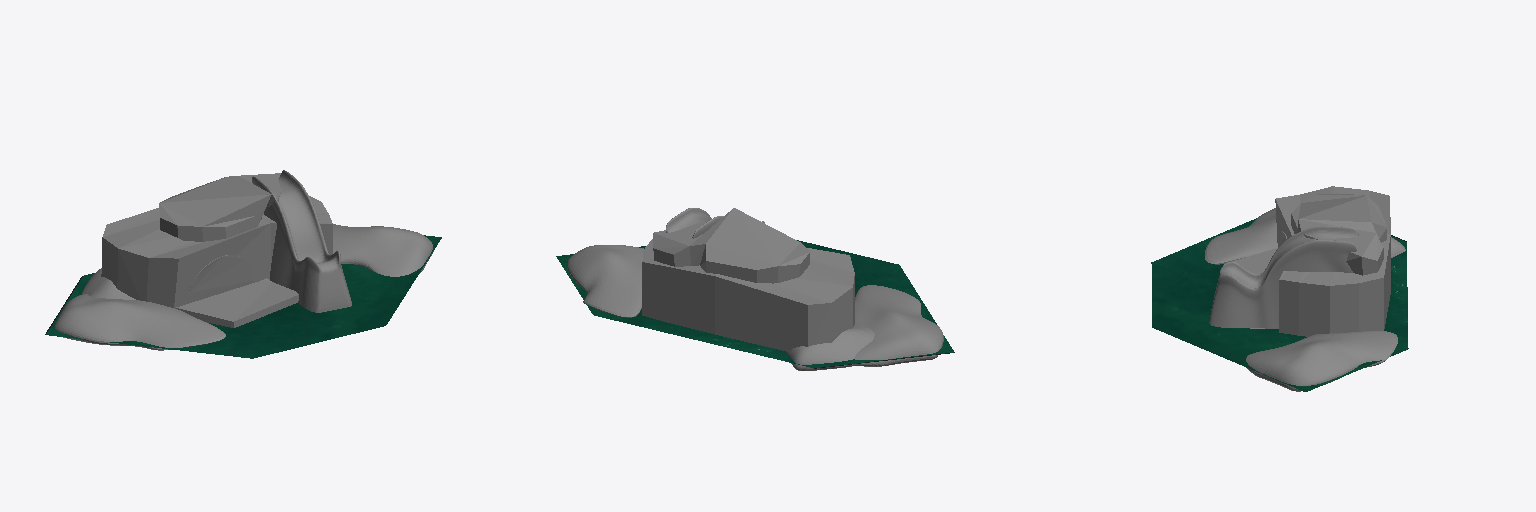
The picture shows the model from 3 angles: view 1: azimuth 30°, elevation 25°; view 2: azimuth 150°, elevation 25°; view 3: azimuth 270°, elevation 25°; orthographic projection.
Parts seen in each view (by area): view 1: cueva, piso, tobogan, monte, roca, monte3, piso_001, monte2; view 2: cueva, roca, monte, piso, monte3, monte2, tobogan; view 3: piso, cueva, tobogan, monte3, roca, monte, piso_001.
Boxes of the visible parts, <box> form: cueva: <box>101,196,332,308</box>; piso: <box>45,235,441,358</box>; tobogan: <box>252,170,351,312</box>; monte: <box>54,294,225,350</box>; roca: <box>159,173,281,241</box>; monte3: <box>333,224,433,276</box>; piso_001: <box>176,278,298,327</box>; monte2: <box>82,268,135,299</box>; cueva: <box>642,239,854,351</box>; roca: <box>653,208,809,283</box>; monte: <box>853,285,943,366</box>; piso: <box>556,240,954,368</box>; monte3: <box>567,245,643,317</box>; monte2: <box>786,324,874,370</box>; tobogan: <box>666,208,764,238</box>; piso: <box>1151,218,1408,391</box>; cueva: <box>1275,186,1390,336</box>; tobogan: <box>1209,226,1358,328</box>; monte3: <box>1246,331,1397,391</box>; roca: <box>1291,194,1386,275</box>; monte: <box>1205,208,1277,264</box>; piso_001: <box>1224,248,1277,273</box>.
Bounding box in the file's own units: 127 × 29.82 × 70.88.
Materials: 5 (1 with a texture image).